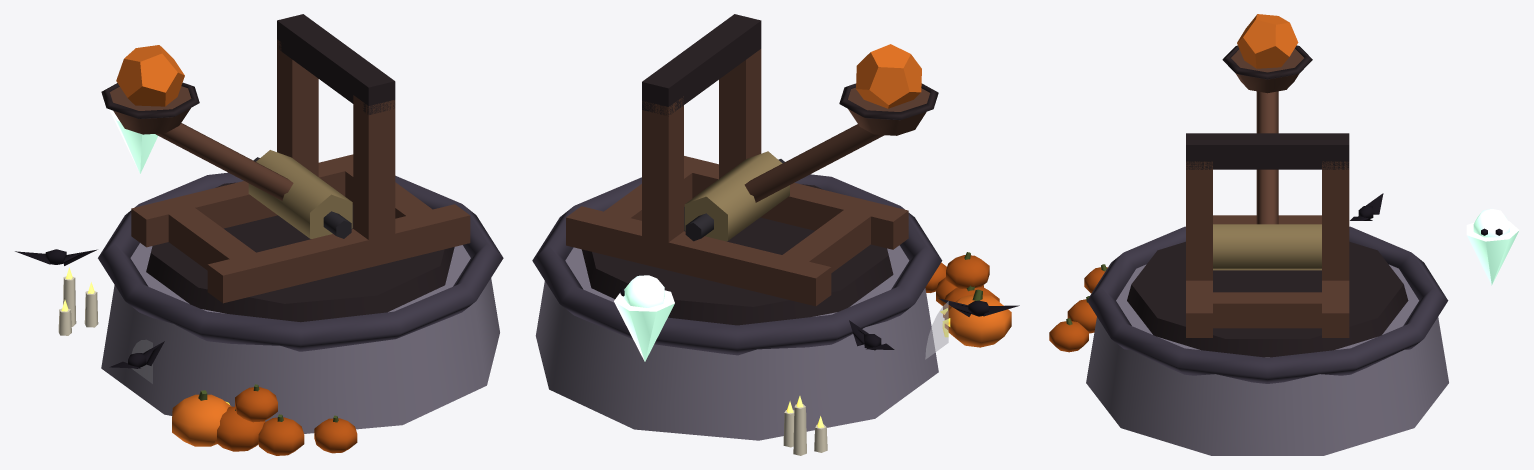
File: tower_catapult.glb
3 renders of one model, left to right at view 1: azimuth 30°, elevation 25°; view 2: azimuth 150°, elevation 25°; view 3: azimuth 270°, elevation 25°, orthographic. The views are drawn at different scales.
Visible parts, largest first — view 1: base, base_rim, turntable, rail_l, upright_l, stop_bar, rail_r, torsion_rope, upright_r, cross_w, stone_0, arm_beam (+11 smaller); view 2: base, base_rim, turntable, rail_r, stop_bar, upright_r, rail_l, cross_w, torsion_rope, upright_l, stone_0, arm_beam (+10 smaller); view 3: base, turntable, base_rim, stop_bar, torsion_rope, cross_e, upright_r, upright_l, stone_0, arm_beam, deco_hw_ghost_sheet, rail_r (+7 smaller).
Boxes of the visible parts, <box> form: base: <box>101,243,499,433</box>; base_rim: <box>98,172,503,351</box>; turntable: <box>146,182,454,322</box>; rail_l: <box>207,204,470,303</box>; upright_l: <box>353,95,395,243</box>; stop_bar: <box>277,14,395,114</box>; rail_r: <box>131,160,345,247</box>; torsion_rope: <box>248,150,352,238</box>; upright_r: <box>277,39,318,176</box>; cross_w: <box>168,205,270,292</box>; stone_0: <box>116,45,184,106</box>; arm_beam: <box>155,123,293,200</box>; base: <box>535,245,938,440</box>; base_rim: <box>532,174,942,355</box>; turntable: <box>582,184,893,325</box>; rail_r: <box>566,206,831,306</box>; stop_bar: <box>642,14,761,116</box>; upright_r: <box>642,96,683,246</box>; rail_l: <box>684,156,908,249</box>; cross_w: <box>766,198,885,300</box>; torsion_rope: <box>684,151,789,241</box>; upright_l: <box>719,49,761,178</box>; stone_0: <box>856,44,921,108</box>; arm_beam: <box>744,124,884,202</box>; base: <box>1086,264,1448,455</box>; turntable: <box>1127,241,1408,357</box>; base_rim: <box>1087,226,1448,383</box>; stop_bar: <box>1186,133,1349,169</box>; torsion_rope: <box>1213,224,1321,270</box>; cross_e: <box>1186,292,1349,328</box>; upright_r: <box>1322,161,1349,280</box>; upright_l: <box>1186,161,1212,280</box>; stone_0: <box>1237,14,1298,68</box>; arm_beam: <box>1256,91,1278,224</box>; deco_hw_ghost_sheet: <box>1466,221,1519,285</box>; rail_r: <box>1322,280,1349,337</box>.
Bounding box in the file's own units: 0.4664 × 0.3651 × 0.5179.
